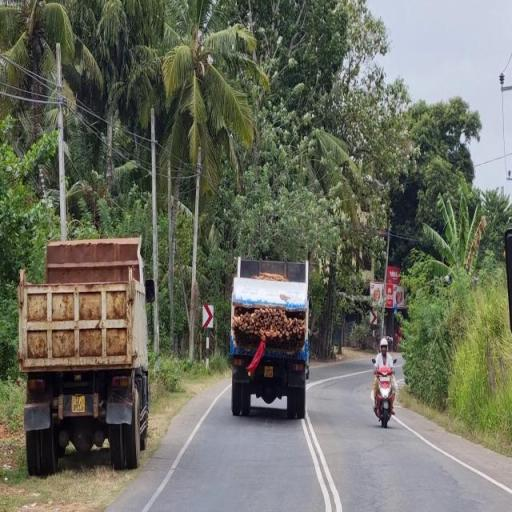double_white_line: (302, 412, 341, 510)
